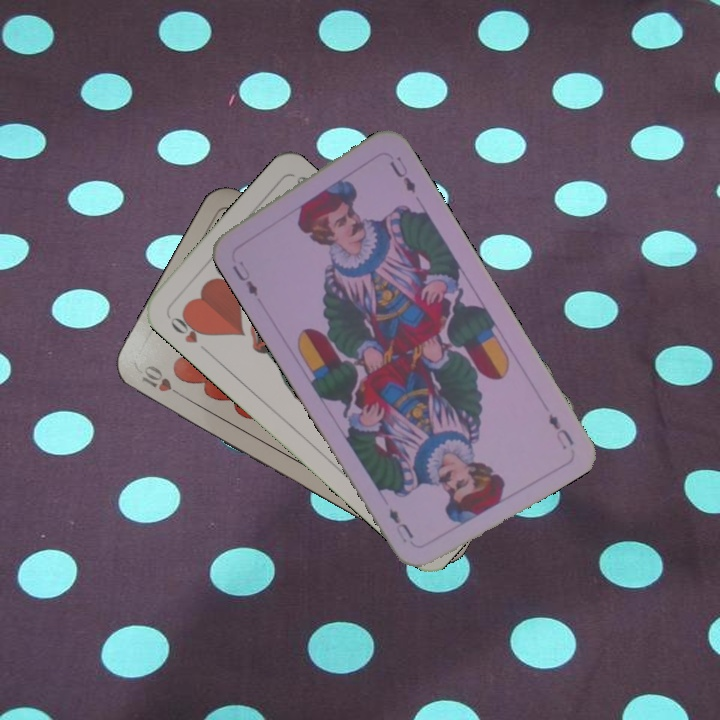EU: (544, 410, 577, 452), (228, 260, 261, 299)
H10: (137, 361, 189, 402)
HO: (166, 308, 212, 356)
